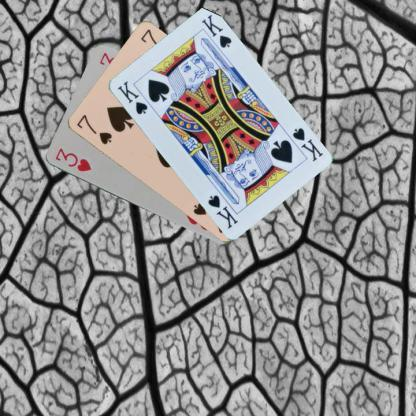3h: (52, 146, 92, 173)
7s: (74, 112, 114, 146)
Ks: (289, 125, 324, 163), (114, 78, 148, 116)
